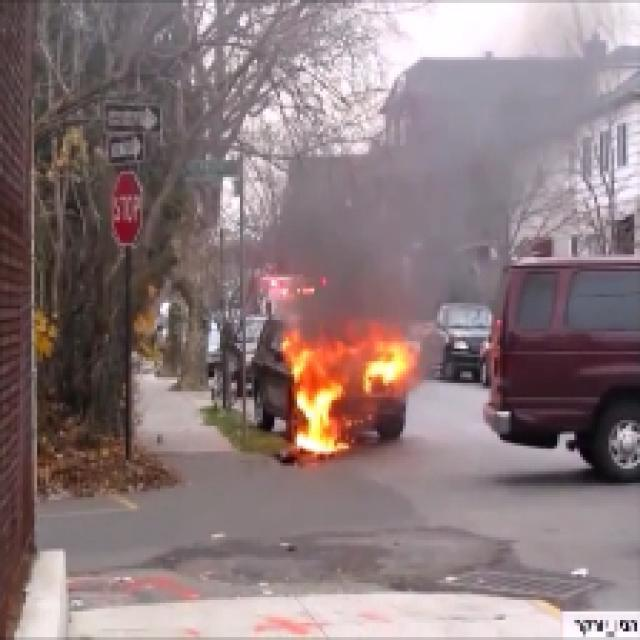Fire: (280, 336, 412, 451)
Smoke: (276, 138, 494, 324)
